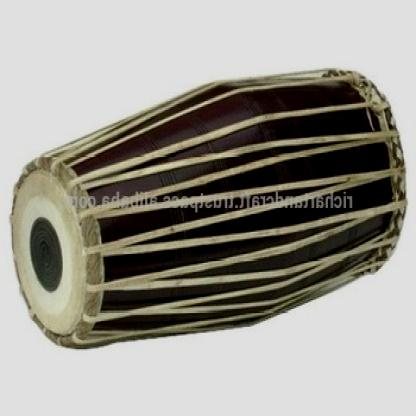Mridangam: (6, 49, 411, 368)
